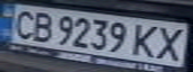2: (69, 15, 93, 49)
3: (87, 16, 112, 52)
9: (106, 19, 133, 55), (51, 12, 75, 47)
B: (27, 9, 57, 43)
C: (6, 7, 42, 39)
K: (127, 21, 163, 60)
X: (151, 25, 190, 62)
